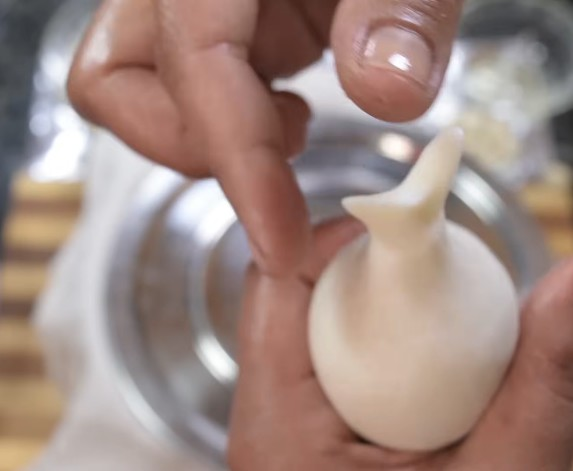yomari: (287, 126, 547, 453)
